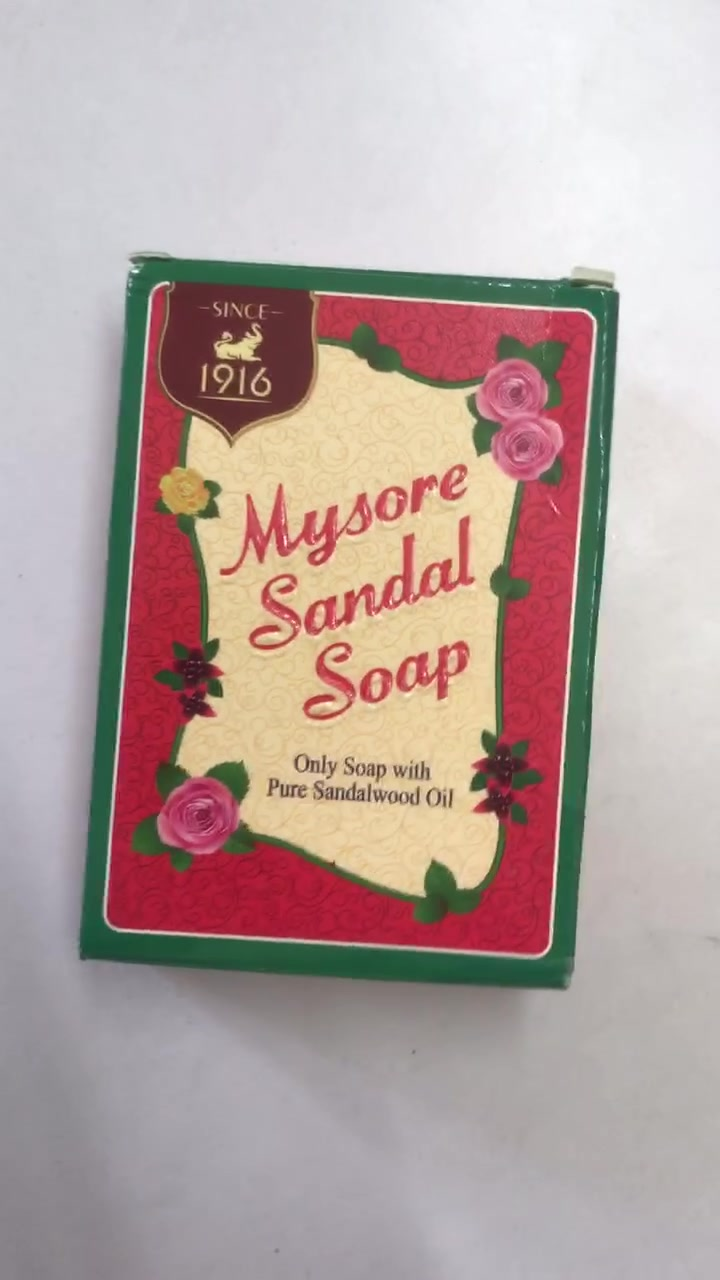mysore sandal soap: (83, 253, 606, 993)
